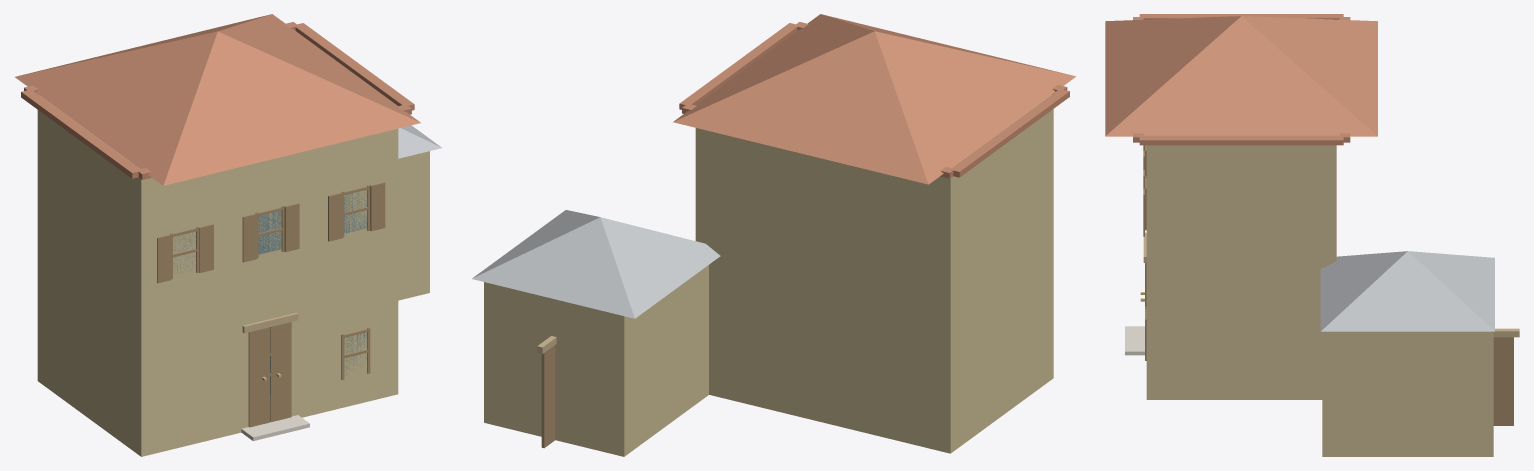
The model's file is mdl_buildings_corner_house_001.glb.
The picture shows the model from 3 angles, left to right: view 1: azimuth 30°, elevation 25°; view 2: azimuth 150°, elevation 25°; view 3: azimuth 270°, elevation 25°; orthographic projection. The views are drawn at different scales.
Visible parts, largest first — view 1: m_fachada, m_teja, m_madera, m_vidrio_petroleo, m_caliza, m_zinc, m_madera_clara; view 2: m_fachada, m_teja, m_zinc, m_madera; view 3: m_fachada, m_teja, m_zinc, m_madera, m_caliza.
Boxes of the visible parts, <box> form: m_fachada: <box>37,95,429,456</box>; m_teja: <box>15,14,420,185</box>; m_madera: <box>157,182,385,427</box>; m_vidrio_petroleo: <box>173,190,367,394</box>; m_caliza: <box>241,415,309,440</box>; m_zinc: <box>398,125,441,158</box>; m_madera_clara: <box>242,312,298,333</box>; m_fachada: <box>484,95,1053,456</box>; m_teja: <box>673,14,1076,184</box>; m_zinc: <box>472,210,720,318</box>; m_madera: <box>541,345,555,448</box>; m_fachada: <box>1146,145,1493,456</box>; m_teja: <box>1105,14,1377,145</box>; m_zinc: <box>1320,251,1494,331</box>; m_madera: <box>1143,145,1513,425</box>; m_caliza: <box>1125,326,1144,355</box>.
Bounding box in the file's own units: 9 × 7.49 × 8.62.
